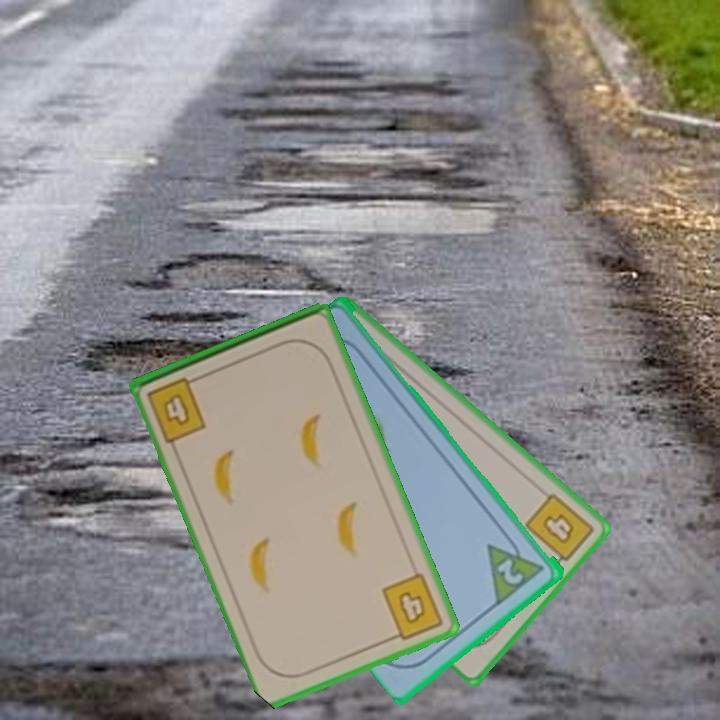2p: (494, 555, 527, 588)
4b: (521, 489, 597, 572), (378, 569, 447, 644), (143, 372, 210, 446)
